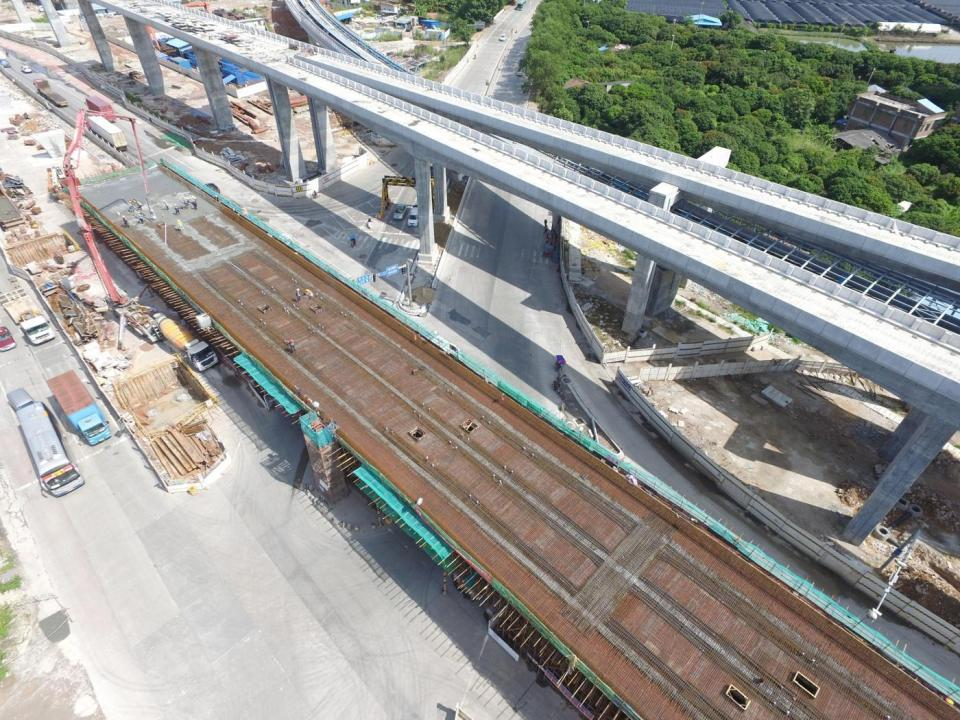bus: (15, 401, 84, 497), (517, 0, 526, 11)
car: (0, 326, 16, 352), (407, 204, 421, 228), (204, 182, 220, 196), (394, 203, 407, 220), (20, 66, 32, 73), (517, 68, 523, 76), (500, 34, 506, 41), (406, 27, 411, 32)
truck: (46, 370, 112, 447), (0, 276, 56, 346), (82, 112, 128, 151), (33, 78, 67, 108), (453, 568, 482, 600), (84, 96, 116, 123)
van: (6, 388, 34, 412)
